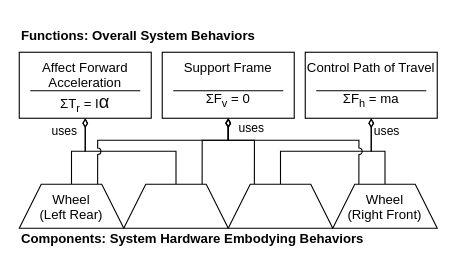
This 457x274 diagram has some shape labels left out. The centre of each missing label's shape, as x and y in pixels:
"Wheel (Left Front)" belongs at point 280,205.
"Wheel (Right Rear)" belongs at point 175,205.
